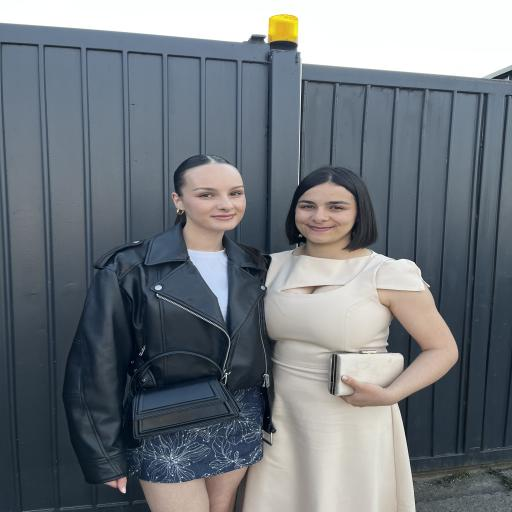marija: (182, 165, 252, 232)
